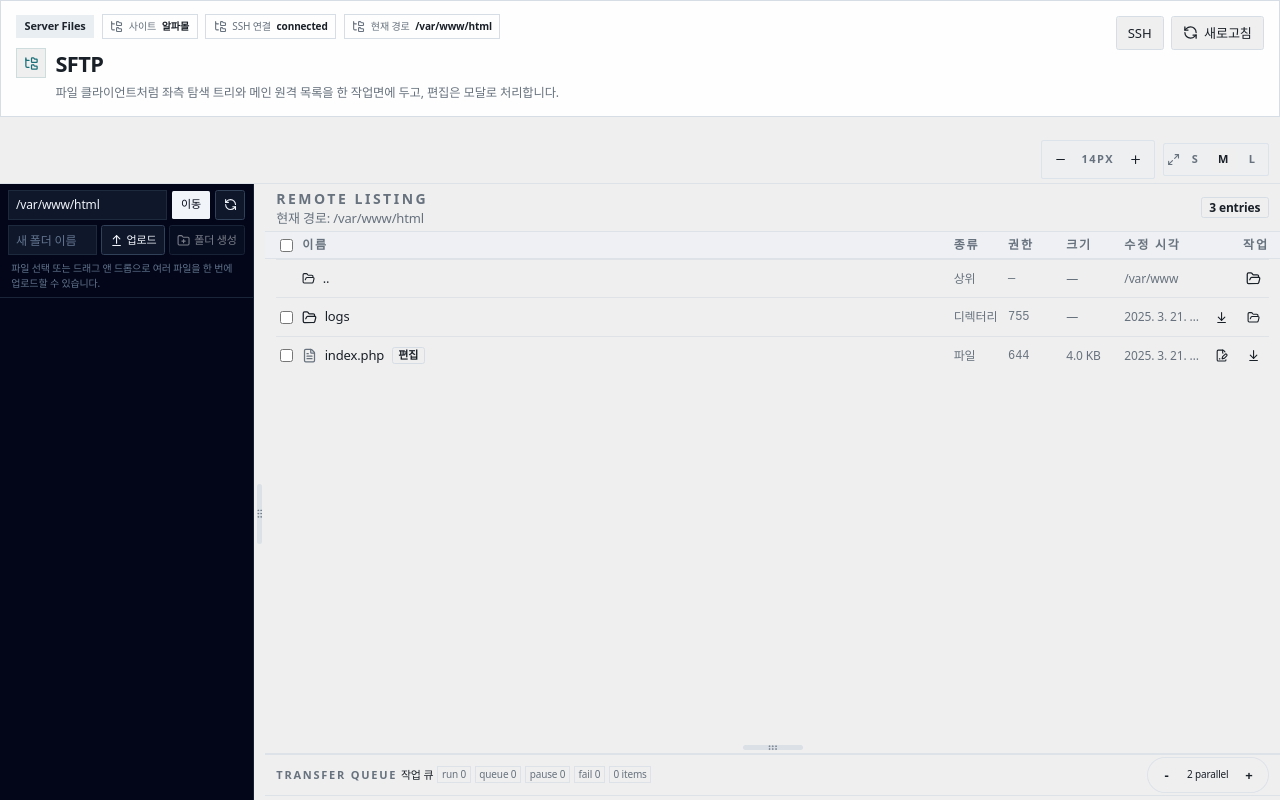
Test case: SiteSftpBrowserPage › opens a directory when the row itself is clicked without checking its checkbox
The image size is (1280, 800).
Click the button named "logs 선택" at (976, 317), box [276, 297, 1269, 336]
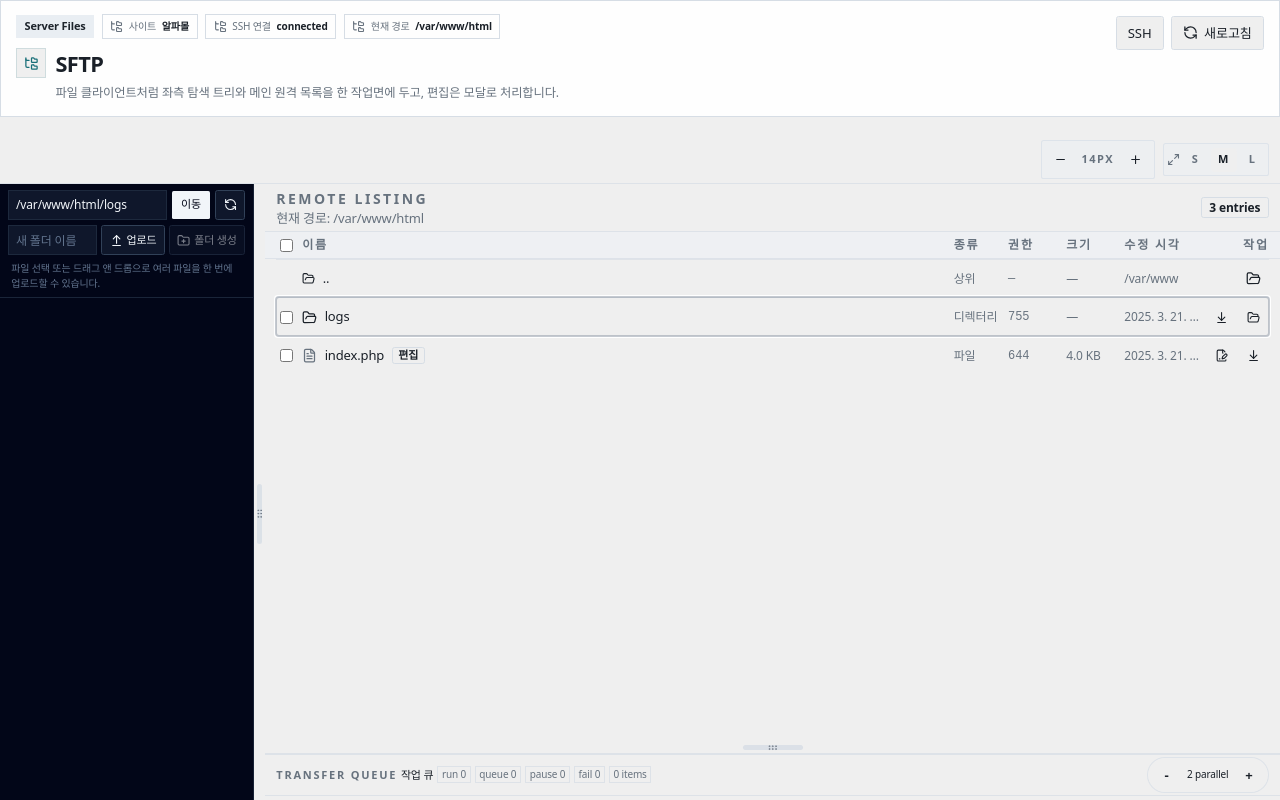
Expected: the checkbox named "logs 선택" is not checked, [280, 311, 293, 324]
Result: the field showing "/var/www/html/logs" is shown at [8, 190, 167, 220]
